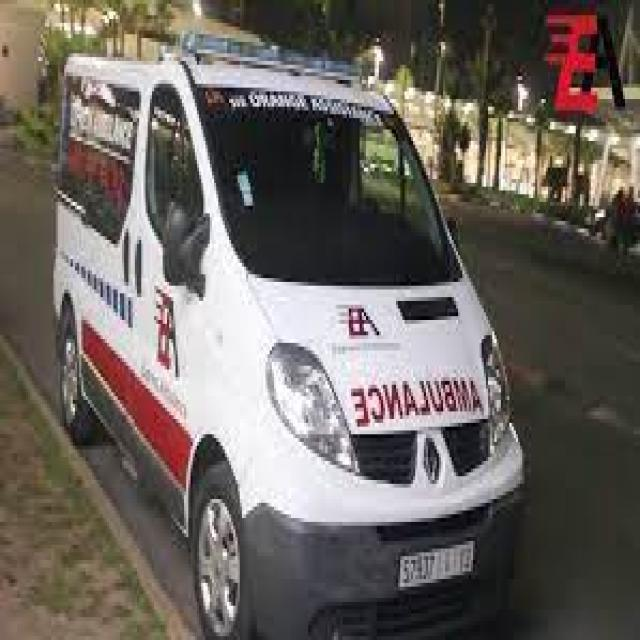ambulance: (50, 9, 535, 640)
